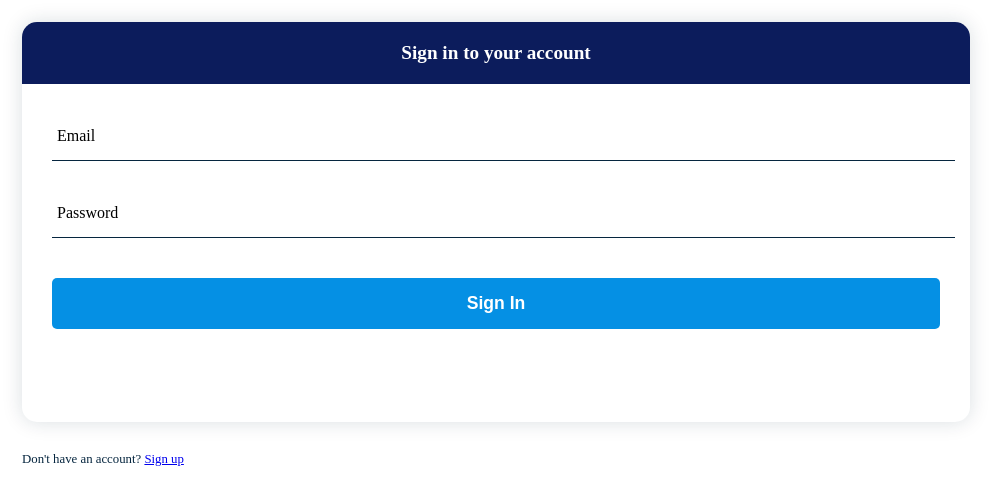
Scenario: Sign In Form › hides errors while user is typing
Click the button "Sign In": (496, 304) [52, 278, 940, 329]
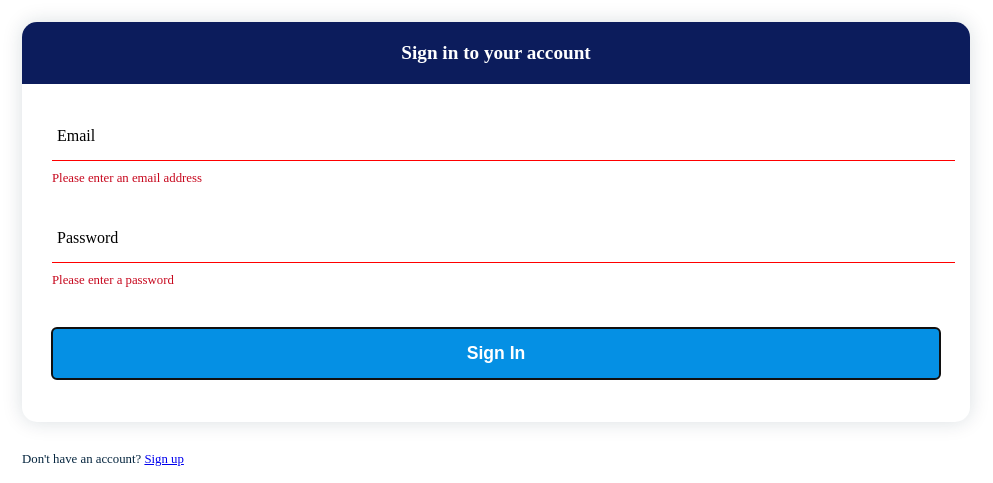
Check: the text with test id "input-error-email" reads "Please enter an email address", box [52, 171, 202, 185]
In the field labelled "Email": (504, 140) [52, 119, 955, 161], type "name..."
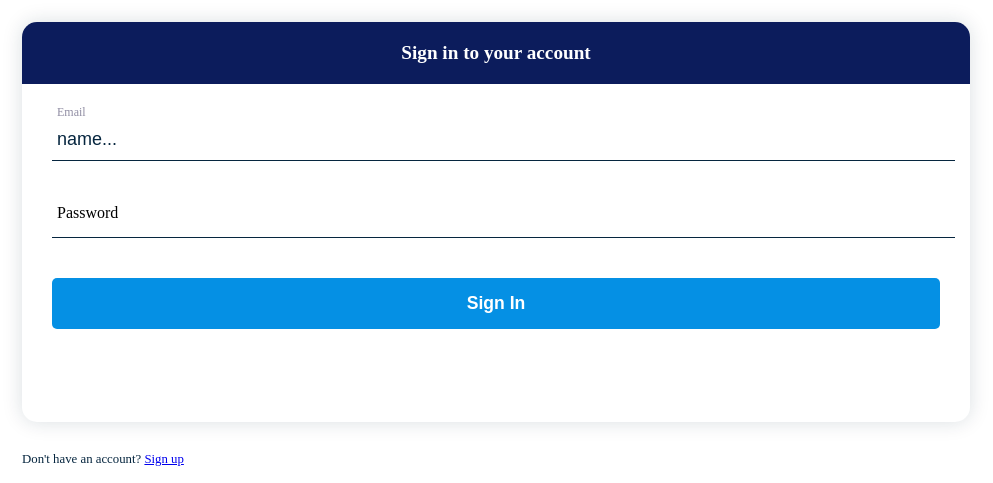
Check: the text with test id "input-error-email" is gone
